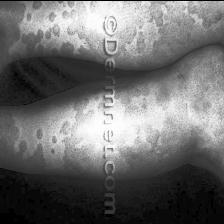Toxin: (120, 85, 224, 169), (0, 0, 106, 64), (0, 100, 96, 170), (120, 0, 224, 37), (118, 36, 192, 62)
